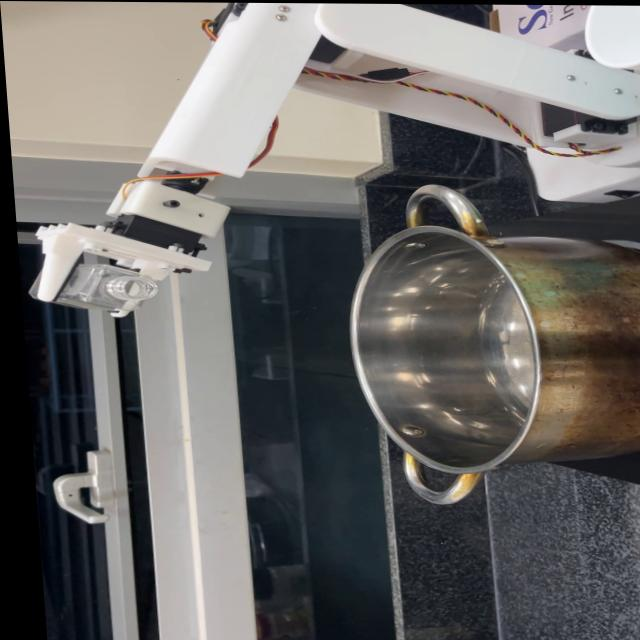cooking_pot: (338, 182, 640, 503)
